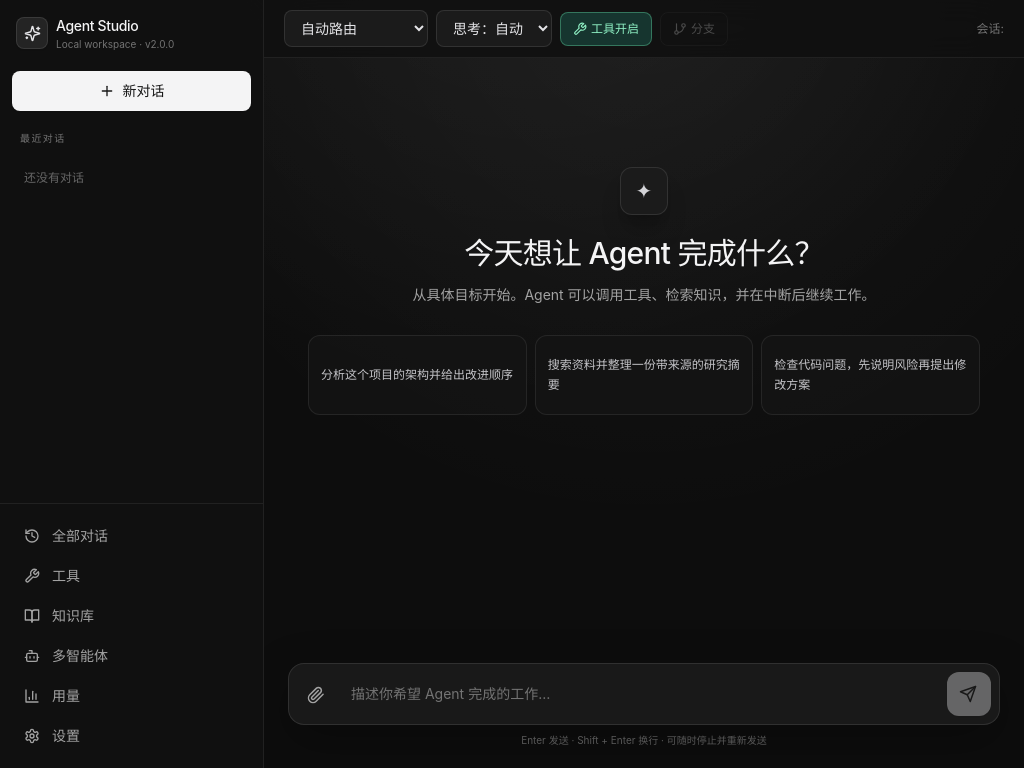
an interrupted message can be retried without duplicating user text
Type "可恢复任务" into the text box named "发送给 Agent 的消息". click: coordinates (641, 694)
box: [343,672,939,716]
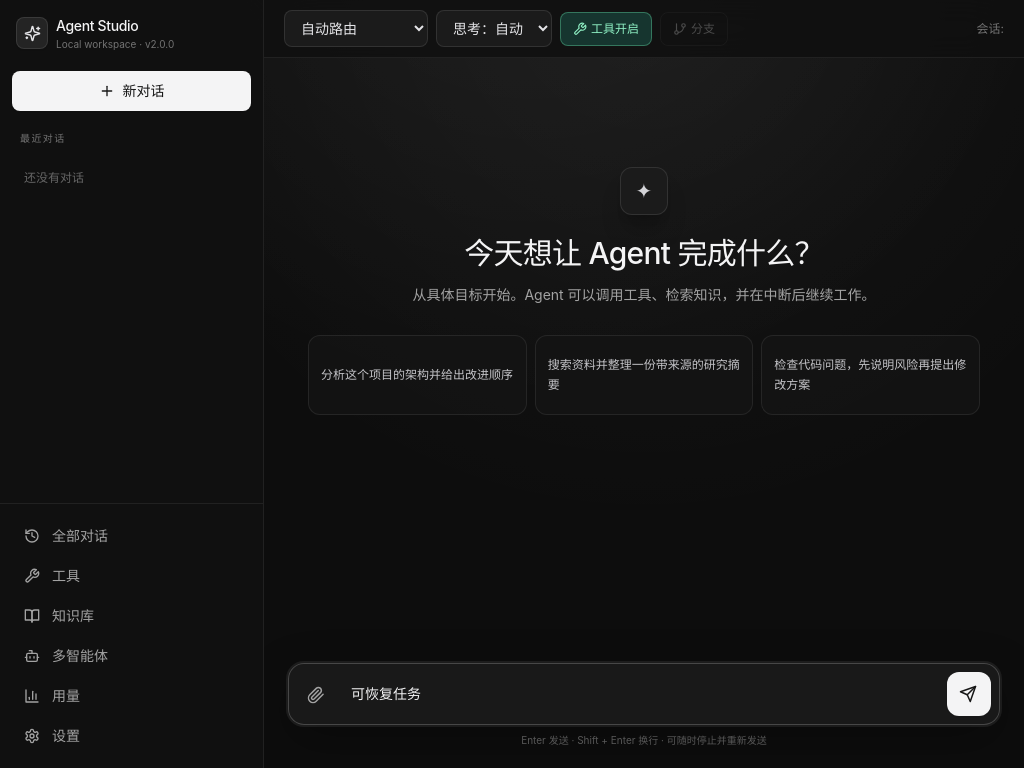
Click the button named "发送消息". click: coordinates (969, 694)
box: [947,672,991,716]
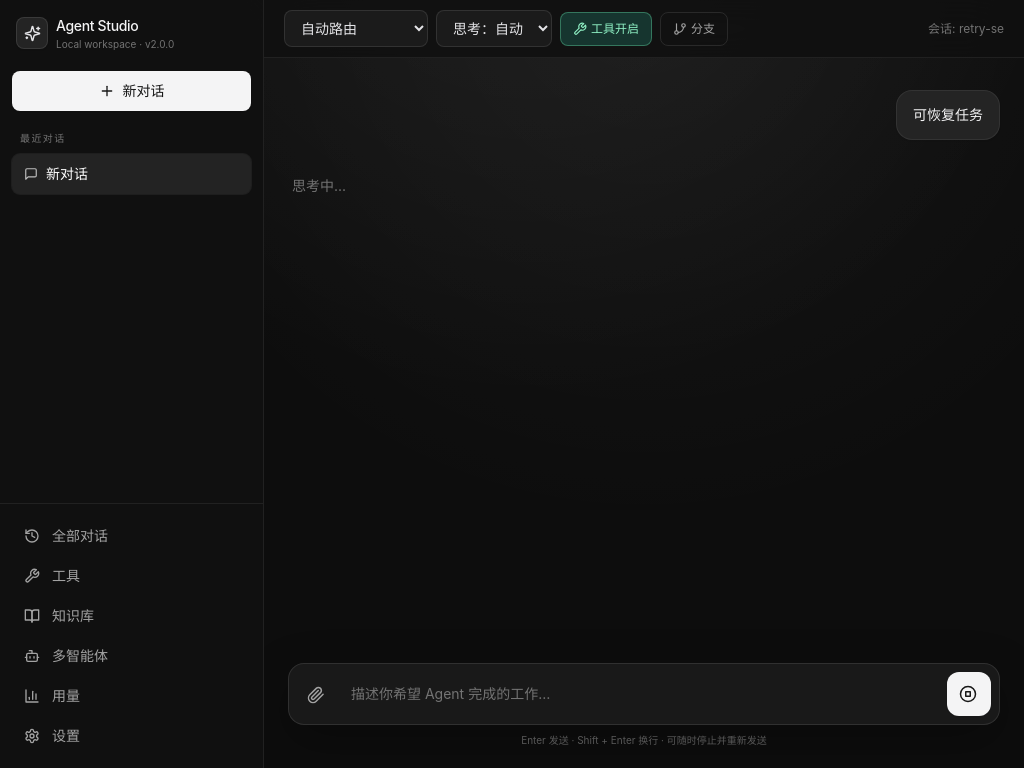
Click the button named "停止生成". click: coordinates (969, 694)
box: [947,672,991,716]
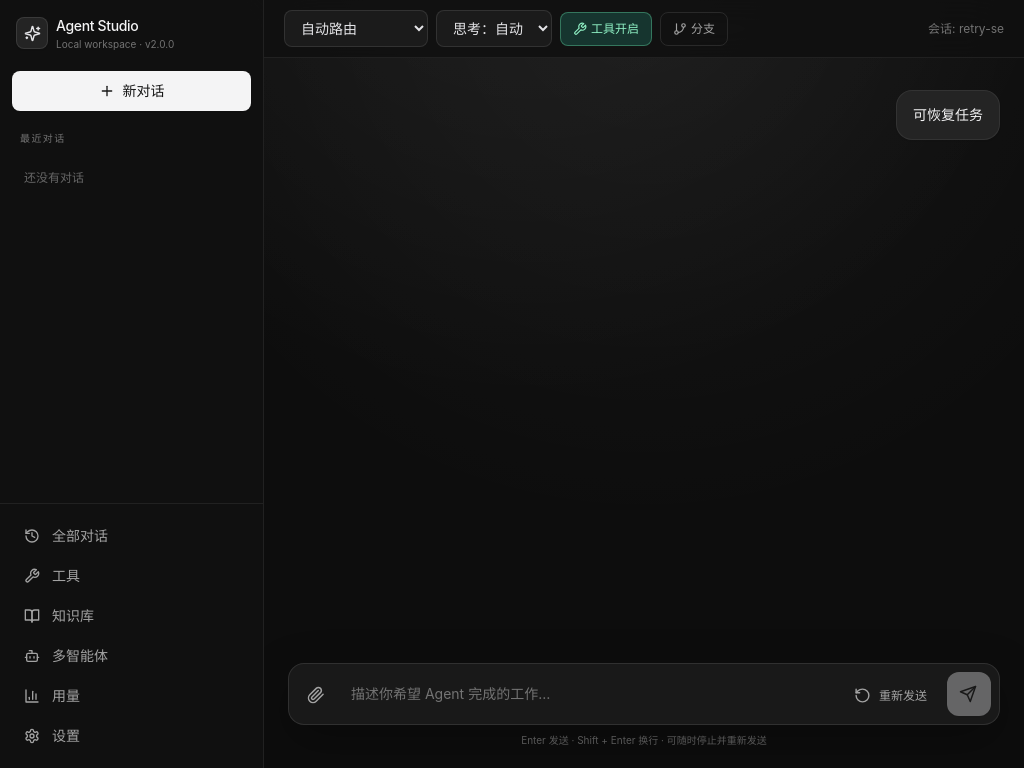
Click the button "重新发送". click: coordinates (890, 696)
box: [842,675,939,716]
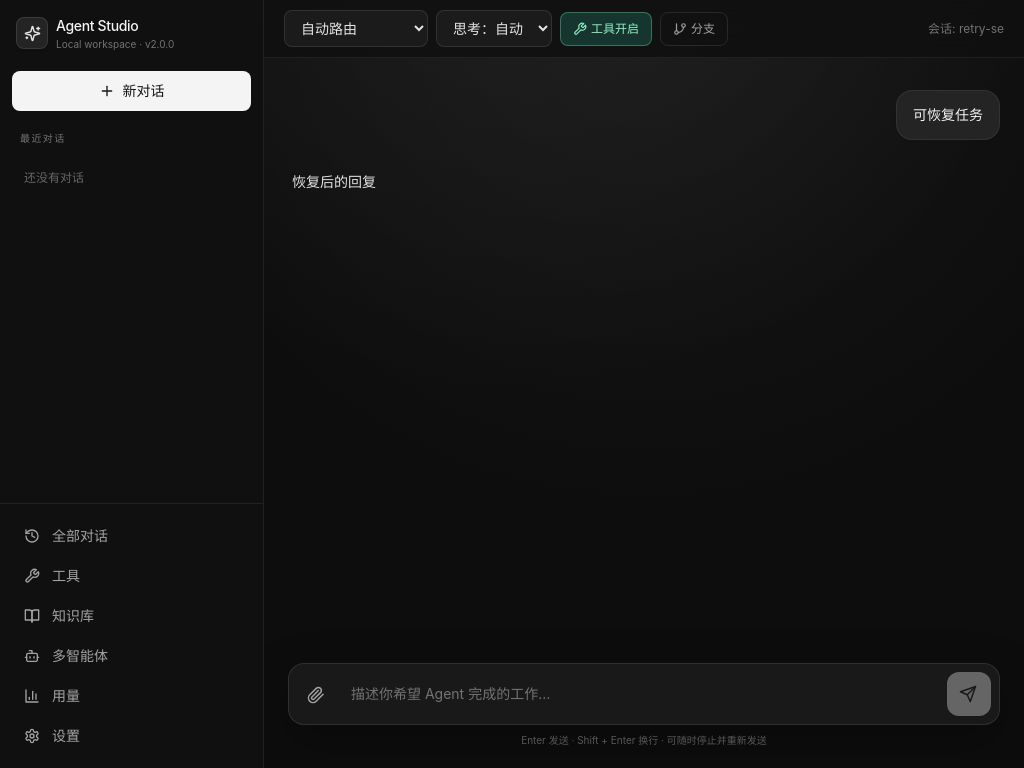
Expected: the text "可恢复任务" is shown once, [913,103,983,127]
Expected: the text "恢复后的回复" is shown, [292,173,376,190]
